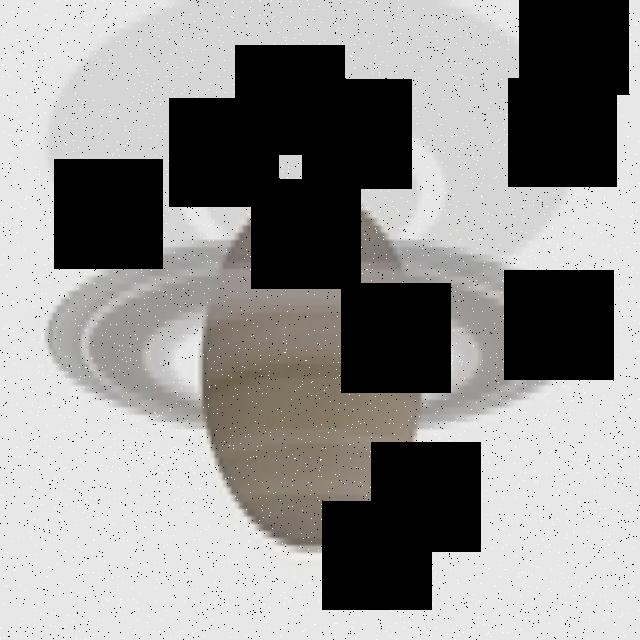Saturn: (44, 182, 582, 554)
